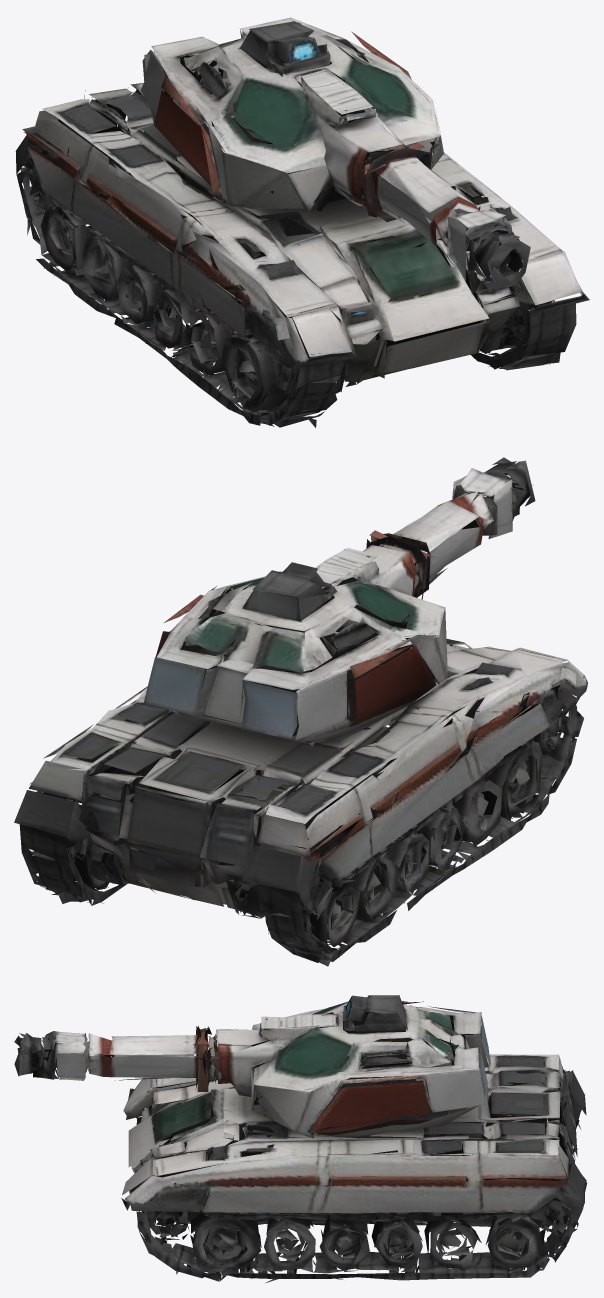
File: qilin.glb
3 renders of one model, top to bottom at view 1: azimuth 30°, elevation 25°; view 2: azimuth 150°, elevation 25°; view 3: azimuth 270°, elevation 25°, orthographic. The views are drawn at different scales.
Parts seen in each view (by area): view 1: Mesh_0; view 2: Mesh_0; view 3: Mesh_0.
Boxes of the visible parts, x1,y1,x2,y2 form: Mesh_0: [15, 17, 589, 427]; Mesh_0: [14, 457, 587, 966]; Mesh_0: [14, 995, 587, 1283].
Size of the model in its own units: 0.4969 by 0.4546 by 1.01.
Materials: 1 (1 with a texture image).
